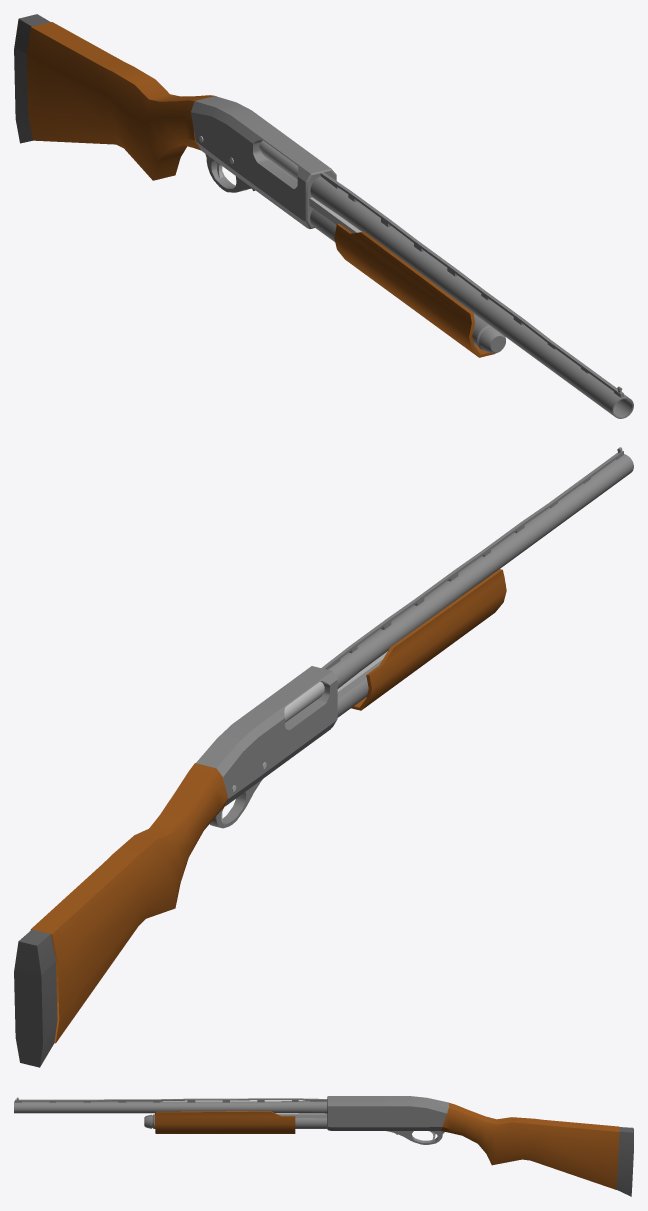
Rendered from PumpShotgun.fbx.
The picture shows the model from 3 angles, top to bottom: view 1: azimuth 30°, elevation 25°; view 2: azimuth 150°, elevation 25°; view 3: azimuth 270°, elevation 25°; orthographic projection. The views are drawn at different scales.
Visible parts, largest first — view 1: PumpShotgun, Pump, Bolt; view 2: PumpShotgun, Pump; view 3: PumpShotgun, Pump.
Boxes of the visible parts, box(x1,y1,x2,y2) form: PumpShotgun: box(14, 14, 633, 418); Pump: box(334, 224, 495, 357); Bolt: box(259, 140, 298, 181); PumpShotgun: box(14, 447, 633, 1067); Pump: box(351, 569, 506, 710); PumpShotgun: box(14, 1096, 633, 1196); Pump: box(154, 1111, 295, 1133).
Size of the model in its own units: 0.0367 by 0.1725 by 1.
